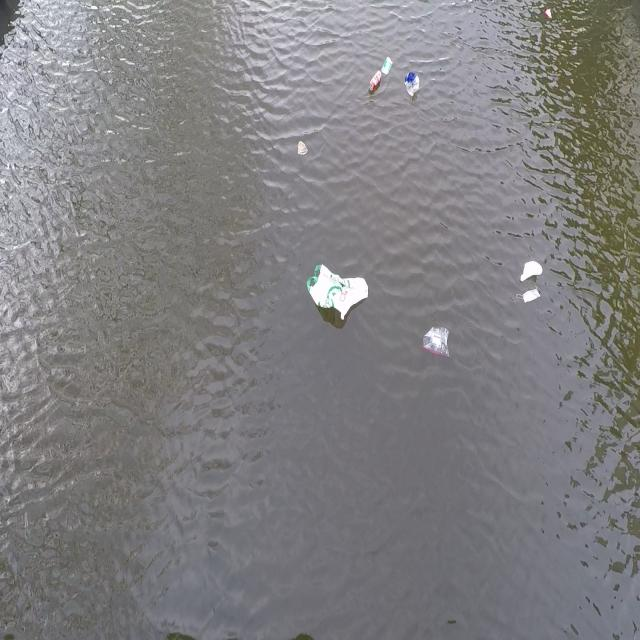Autre plastique: (519, 257, 545, 285)
Non plastique: (514, 288, 546, 308), (296, 135, 312, 162), (368, 67, 384, 94)
Sac plastique: (306, 251, 374, 326), (419, 321, 455, 363), (404, 62, 424, 101)
